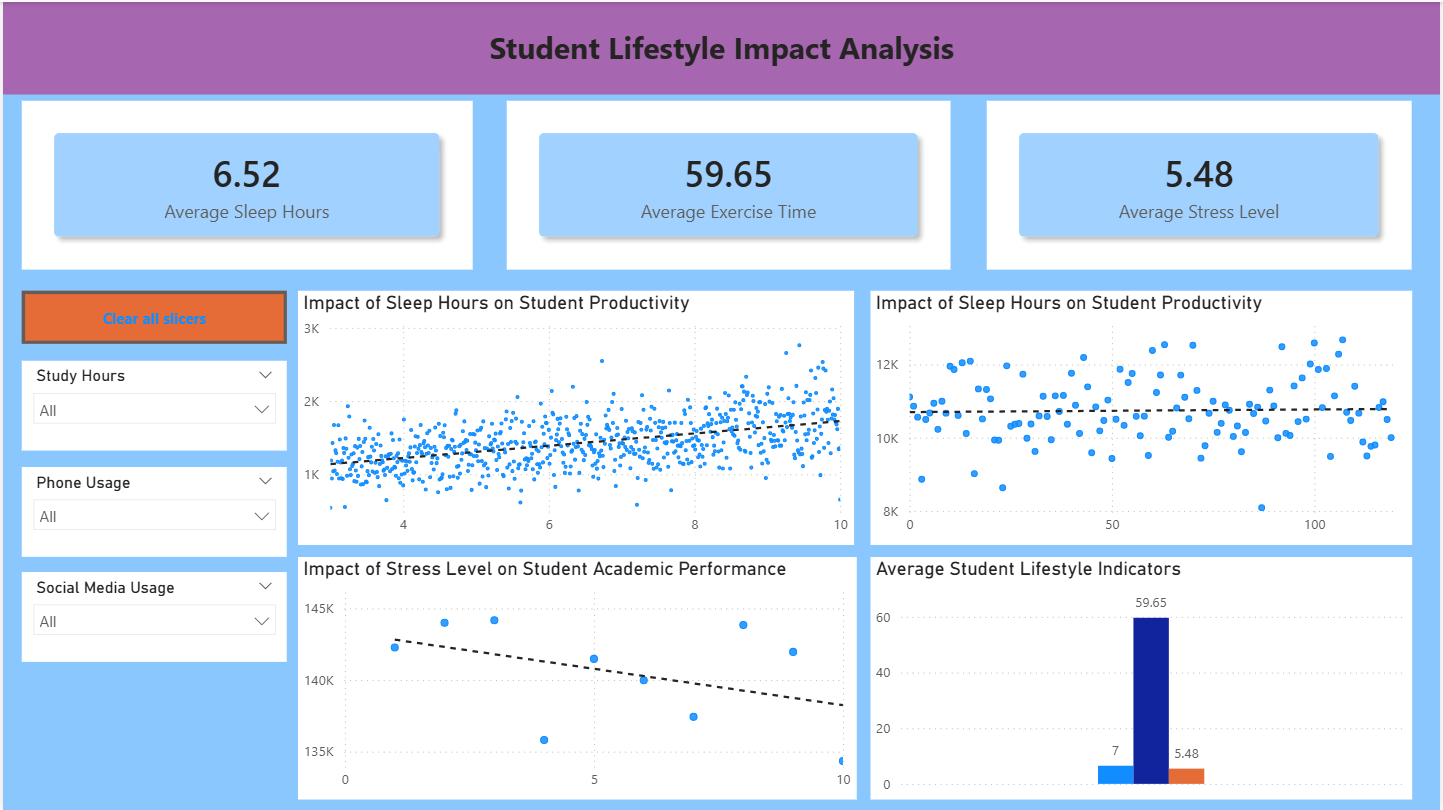

The dashboard page shown, as its layout file describes it:
{"tool":"powerbi","page":{"name":"Student Lifestyle Impact Analysis","canvas":[1280,720],"ordinal":2},"visuals":[{"type":"textbox","box":[0,0,1280,82.5],"z":0},{"type":"cardVisual","fields":{"Data":["Avg(Productivity and Distraction Analysis.Sleep Hours)"]},"box":[16.2,87.5,401.2,150],"z":1000},{"type":"cardVisual","fields":{"Data":["Avg(Productivity and Distraction Analysis.Exercise (min))"]},"box":[448.8,87.5,395,150],"z":2000},{"type":"cardVisual","fields":{"Data":["Avg(Productivity and Distraction Analysis.Stress Level)"]},"box":[876.2,87.5,378.8,150],"z":3000},{"type":"scatterChart","title":"Impact of Sleep Hours on Student Productivity","fields":{"Y":["Sum(Productivity and Distraction Analysis.Productivity Score)"],"X":["Productivity and Distraction Analysis.Sleep Hours"]},"box":[262.5,257.5,495,226.2],"z":4000},{"type":"scatterChart","title":"Impact of Stress Level on Student Academic Performance","fields":{"X":["Productivity and Distraction Analysis.Stress Level"],"Y":["Sum(Productivity and Distraction Analysis.Final Grade)"]},"box":[262.5,493.8,497.5,216.2],"z":5000},{"type":"scatterChart","title":"Impact of Sleep Hours on Student Productivity","fields":{"X":["Productivity and Distraction Analysis.Exercise (min)"],"Y":["Sum(Productivity and Distraction Analysis.Focus Score)"]},"box":[772.5,257.5,482.5,226.2],"z":6000},{"type":"clusteredColumnChart","title":"Average Student Lifestyle Indicators","fields":{"Y":["Avg(Productivity and Distraction Analysis.Sleep Hours)","Avg(Productivity and Distraction Analysis.Exercise (min))","Avg(Productivity and Distraction Analysis.Stress Level)"]},"box":[772.5,493.8,482.5,216.2],"z":7000},{"type":"actionButton","box":[16.2,257.5,236.2,47.5],"z":8000},{"type":"slicer","fields":{"Values":["Productivity and Distraction Analysis.Study Hours"]},"box":[16.2,320,236.2,80],"z":9000},{"type":"slicer","fields":{"Values":["Productivity and Distraction Analysis.Phone Usage"]},"box":[16.2,413.8,236.2,80],"z":10000},{"type":"slicer","fields":{"Values":["Productivity and Distraction Analysis.Social Media Usage"]},"box":[16.2,507.5,236.2,80],"z":11000}]}

Visuals, with their boxes in screenshot pixels (x1, y1, x2, y2), scaled from the page's 1280x720 canvas onto the 1443x810 screenshot:
textbox: [0, 0, 1442, 93]
cardVisual - Avg(Productivity and Distraction Analysis.Sleep Hours): [18, 98, 471, 267]
cardVisual - Avg(Productivity and Distraction Analysis.Exercise (min)): [506, 98, 951, 267]
cardVisual - Avg(Productivity and Distraction Analysis.Stress Level): [988, 98, 1415, 267]
"Impact of Sleep Hours on Student Productivity" scatterChart: [296, 290, 854, 544]
"Impact of Stress Level on Student Academic Performance" scatterChart: [296, 556, 857, 799]
"Impact of Sleep Hours on Student Productivity" scatterChart: [871, 290, 1415, 544]
"Average Student Lifestyle Indicators" clusteredColumnChart: [871, 556, 1415, 799]
actionButton: [18, 290, 285, 343]
slicer - Productivity and Distraction Analysis.Study Hours: [18, 360, 285, 450]
slicer - Productivity and Distraction Analysis.Phone Usage: [18, 466, 285, 556]
slicer - Productivity and Distraction Analysis.Social Media Usage: [18, 571, 285, 661]
